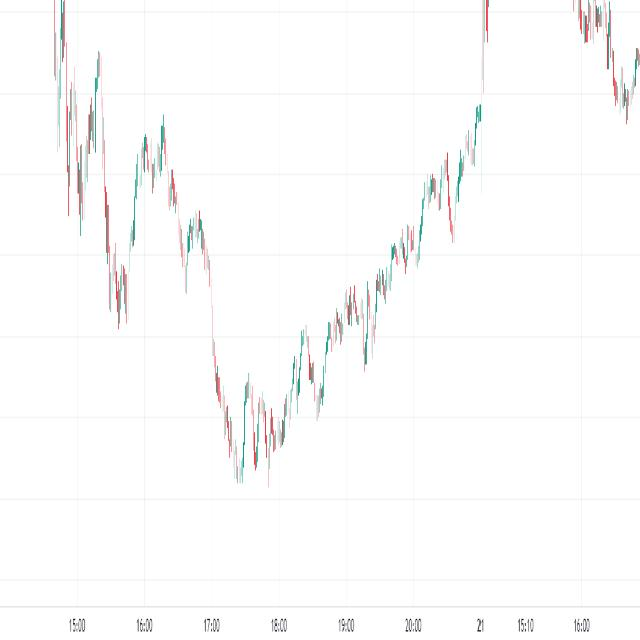Channel-up: (233, 87, 497, 551)
